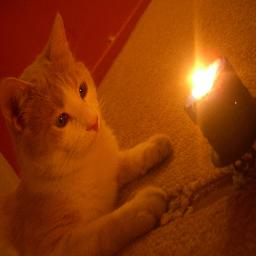catnose: (84, 114, 100, 134)
